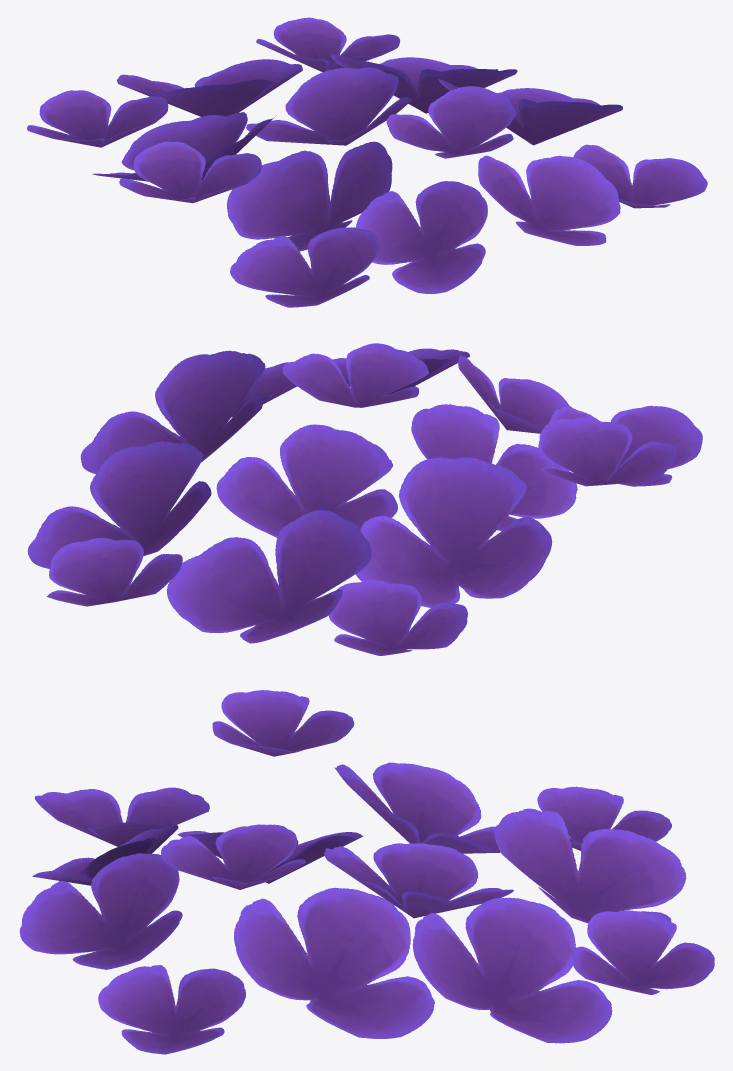
File: Plant_7_Big.gltf
The picture shows the model from 3 angles, top to bottom: view 1: azimuth 30°, elevation 25°; view 2: azimuth 150°, elevation 25°; view 3: azimuth 270°, elevation 25°; orthographic projection. The views are drawn at different scales.
Visible parts, largest first — view 1: Plant_7_Big; view 2: Plant_7_Big; view 3: Plant_7_Big.
Part boxes in pixels (<box>): Plant_7_Big: <box>27,17,707,307</box>; Plant_7_Big: <box>27,343,702,655</box>; Plant_7_Big: <box>19,690,714,1054</box>.
Size of the model in its own units: 1.31 by 0.2534 by 1.36.
1 material, 1 textured.
